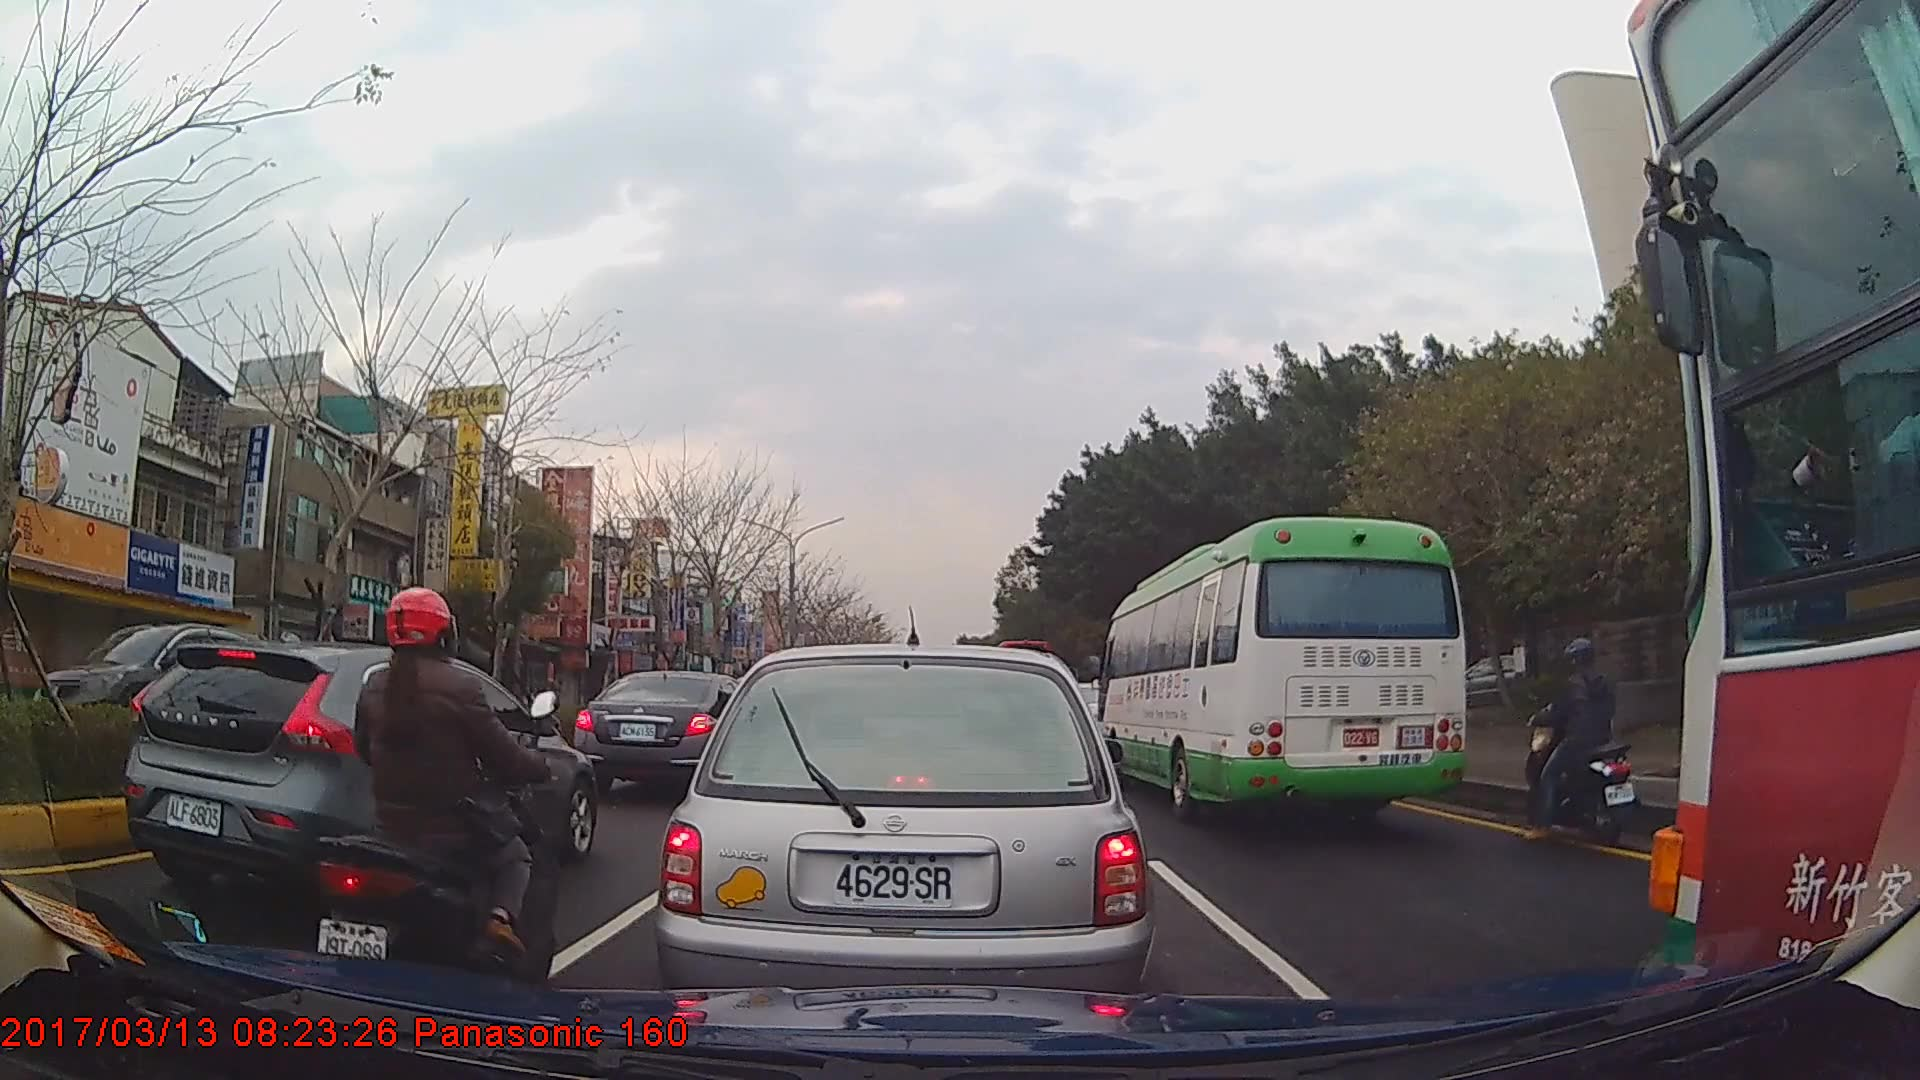rider: (328, 581, 550, 1013), (1521, 635, 1635, 846)
vehicle: (654, 640, 1158, 1040), (123, 644, 597, 919), (1102, 515, 1468, 819), (30, 621, 285, 737), (574, 668, 758, 800)
